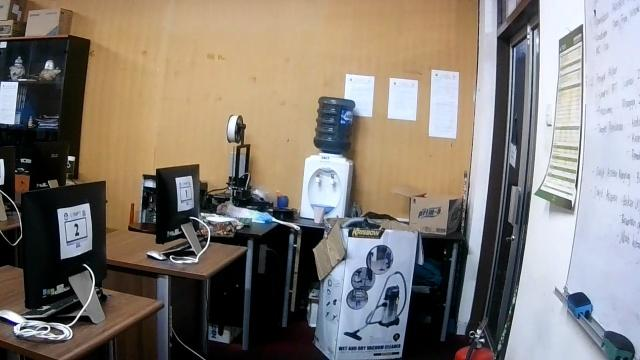AIO PC-Monitor-TV: (18, 179, 106, 324), (153, 162, 203, 257)
Dispenser: (297, 95, 355, 221)
